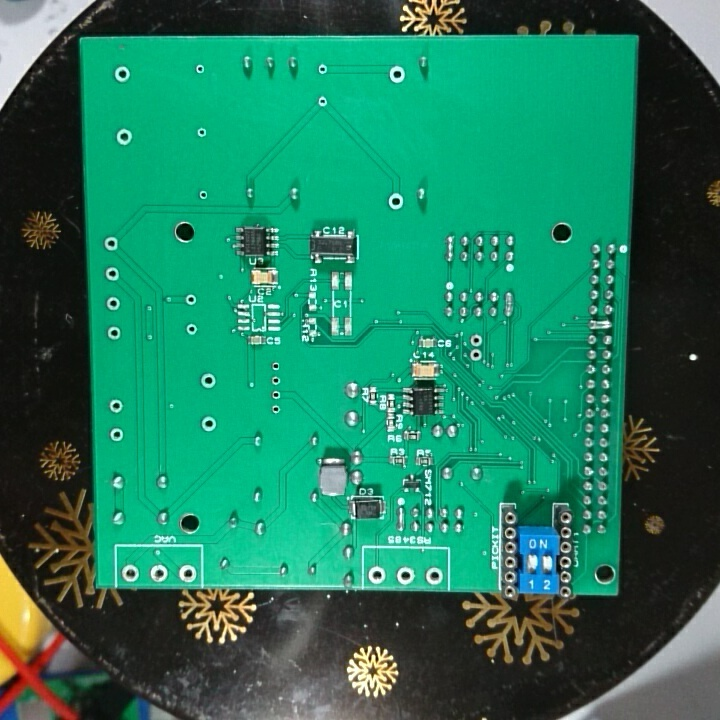F: (111, 64, 134, 87), (394, 565, 417, 587), (113, 126, 136, 148), (385, 189, 405, 214), (366, 563, 387, 586), (387, 63, 408, 86), (423, 565, 444, 586), (177, 563, 197, 585), (199, 370, 219, 392), (148, 563, 168, 584), (104, 323, 125, 343), (103, 293, 122, 315), (119, 562, 139, 582), (200, 414, 219, 435), (107, 396, 127, 415), (101, 235, 121, 254), (108, 425, 126, 444), (104, 263, 121, 283), (468, 332, 486, 349), (181, 292, 199, 309), (468, 347, 485, 363), (315, 61, 331, 78), (183, 321, 200, 336), (196, 186, 210, 204), (193, 60, 207, 78), (269, 403, 284, 418), (269, 373, 284, 388), (316, 93, 330, 109), (196, 123, 209, 140), (269, 360, 282, 375), (270, 388, 284, 400)
P: (587, 316, 615, 333), (502, 289, 517, 320), (442, 232, 456, 265), (395, 504, 406, 536)
